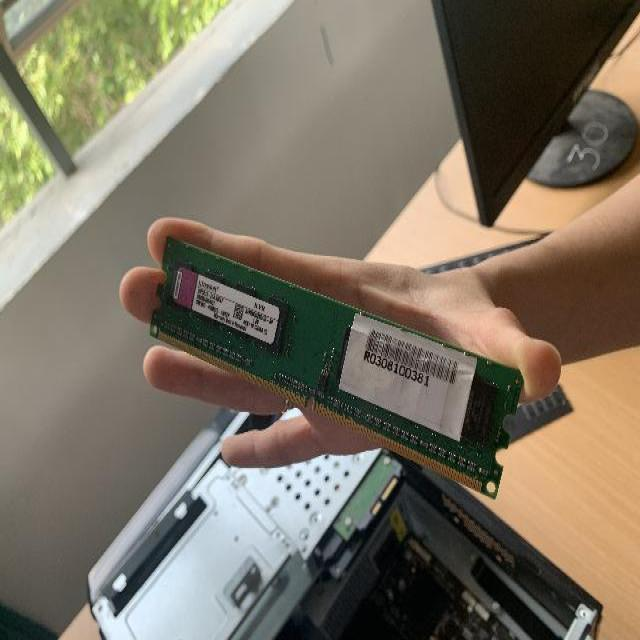RAM: (149, 232, 524, 499)
